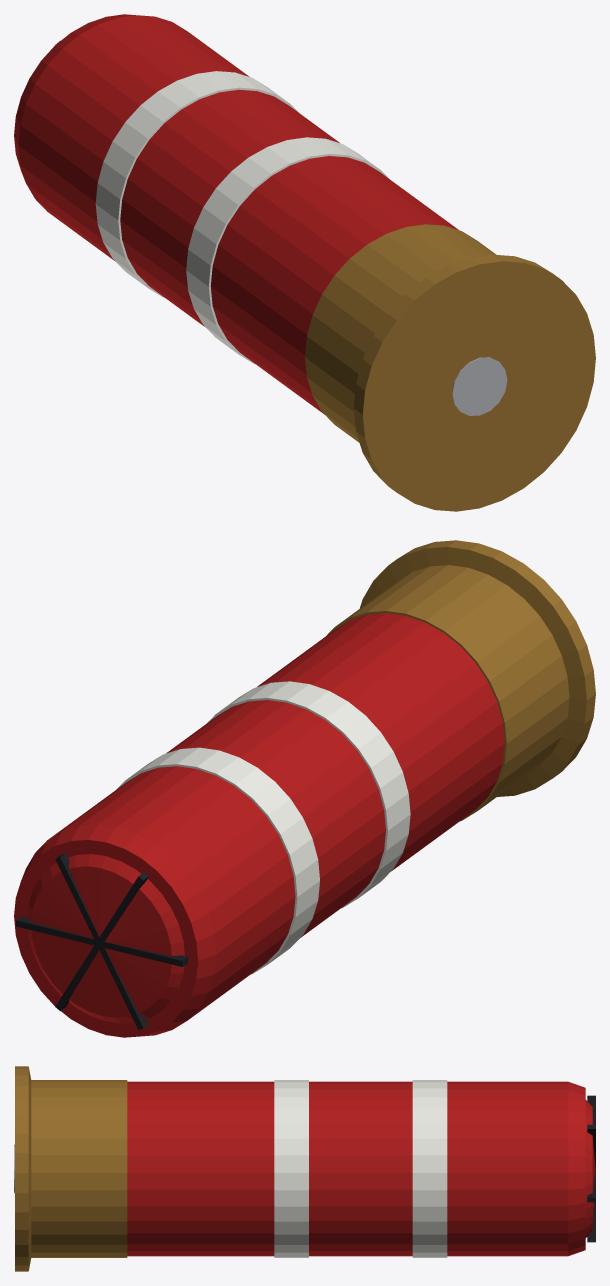
The model's file is cartucho_sinal_vermelho.glb.
3 views of the same model, one above another, from view 1: azimuth 30°, elevation 25°; view 2: azimuth 150°, elevation 25°; view 3: azimuth 270°, elevation 25° (orthographic). The views are drawn at different scales.
Visible parts, largest first — view 1: cartucho_sinal_vermelho_casco_vermelho, cartucho_sinal_vermelho_latao, cartucho_sinal_vermelho_tinta_branca, cartucho_sinal_vermelho_aco_inox; view 2: cartucho_sinal_vermelho_casco_vermelho, cartucho_sinal_vermelho_latao, cartucho_sinal_vermelho_tinta_branca, cartucho_sinal_vermelho_borracha; view 3: cartucho_sinal_vermelho_casco_vermelho, cartucho_sinal_vermelho_latao, cartucho_sinal_vermelho_tinta_branca, cartucho_sinal_vermelho_borracha.
Boxes of the visible parts, box(x1,y1,x2,y2) form: cartucho_sinal_vermelho_casco_vermelho: box(14, 14, 458, 414); cartucho_sinal_vermelho_latao: box(305, 224, 595, 511); cartucho_sinal_vermelho_tinta_branca: box(95, 71, 388, 364); cartucho_sinal_vermelho_aco_inox: box(452, 357, 507, 415); cartucho_sinal_vermelho_casco_vermelho: box(14, 613, 504, 1037); cartucho_sinal_vermelho_latao: box(326, 540, 595, 821); cartucho_sinal_vermelho_tinta_branca: box(116, 681, 410, 974); cartucho_sinal_vermelho_borracha: box(16, 853, 188, 1029); cartucho_sinal_vermelho_casco_vermelho: box(127, 1081, 595, 1256); cartucho_sinal_vermelho_latao: box(15, 1066, 127, 1271); cartucho_sinal_vermelho_tinta_branca: box(274, 1080, 447, 1257); cartucho_sinal_vermelho_borracha: box(587, 1095, 595, 1242).
Bounding box in the file's own units: 0.0238 × 0.0238 × 0.0673.
